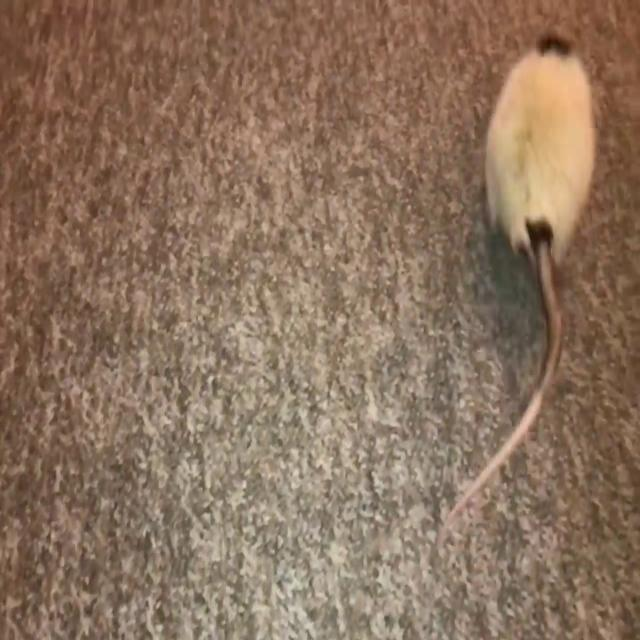rat: (482, 28, 597, 267)
